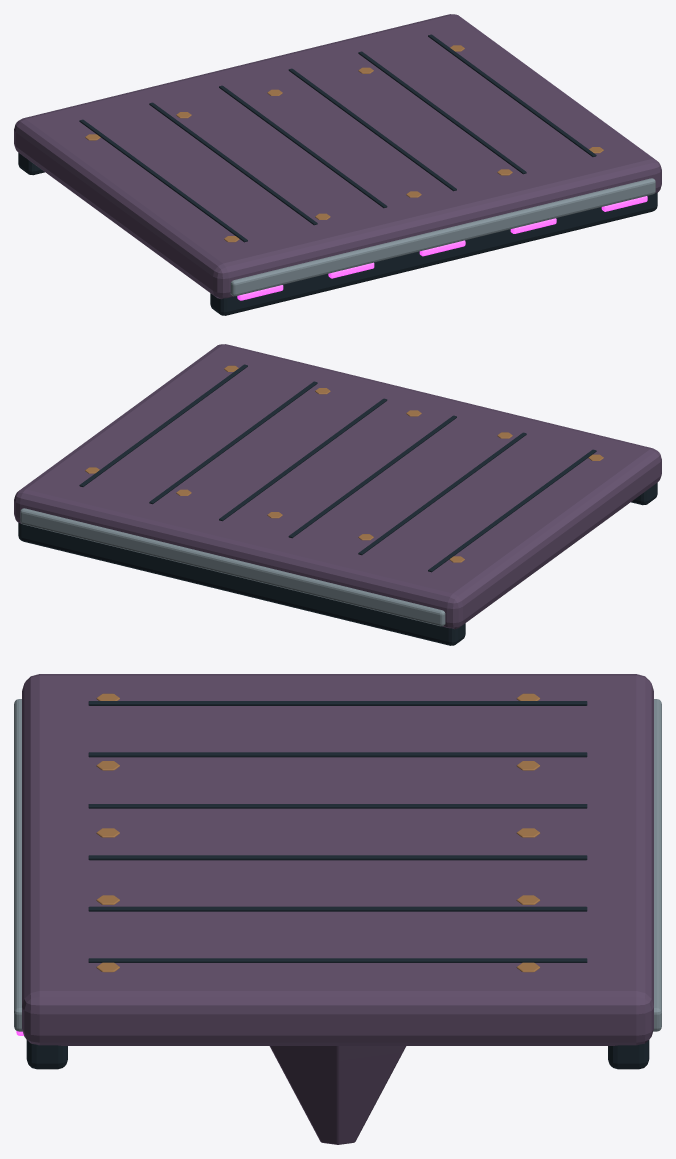
The model's file is traverse_ledge.glb.
3 renders of one model, top to bottom at view 1: azimuth 30°, elevation 25°; view 2: azimuth 150°, elevation 25°; view 3: azimuth 270°, elevation 25°, orthographic. The views are drawn at different scales.
Parts seen in each view (by area): view 1: traverse_ledge; view 2: traverse_ledge; view 3: traverse_ledge.
Part boxes in pixels (x1=…): traverse_ledge: x1=14, y1=14, x2=661, y2=315; traverse_ledge: x1=14, y1=344, x2=661, y2=645; traverse_ledge: x1=14, y1=674, x2=661, y2=1144.
Size of the model in its own units: 3.98 by 1.11 by 3.3.
